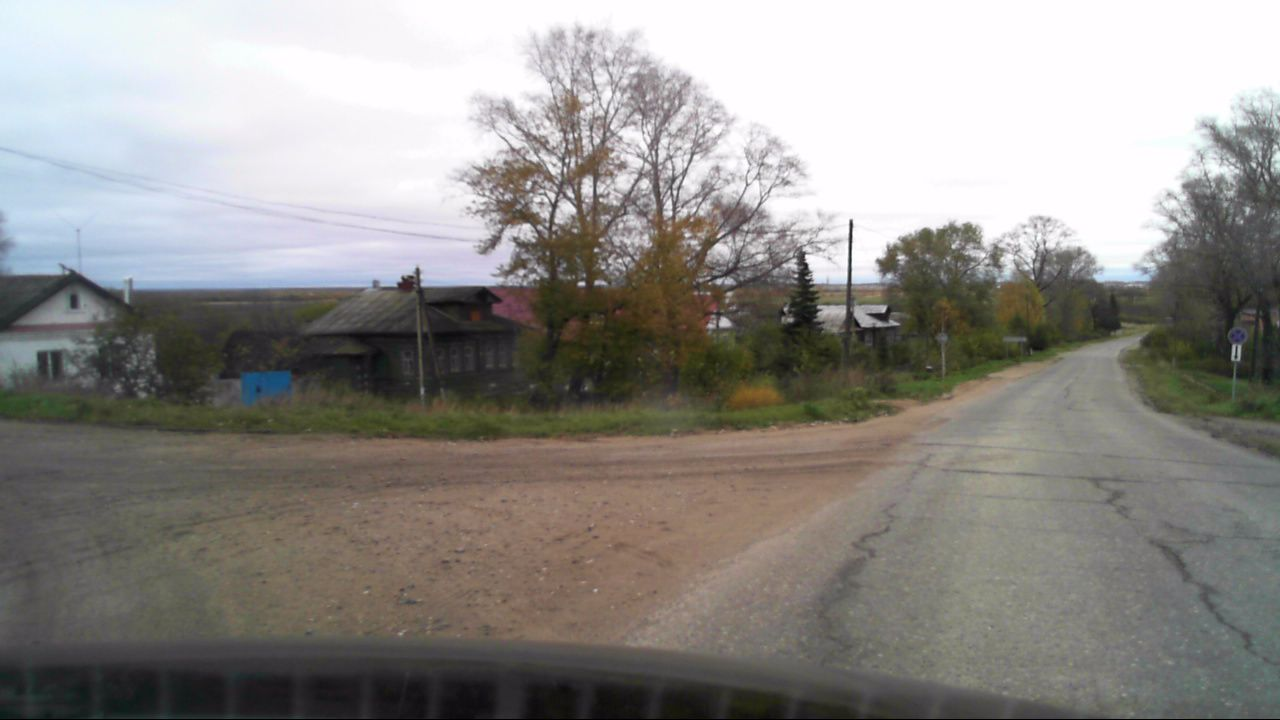No Parking: (1228, 324, 1249, 344)
